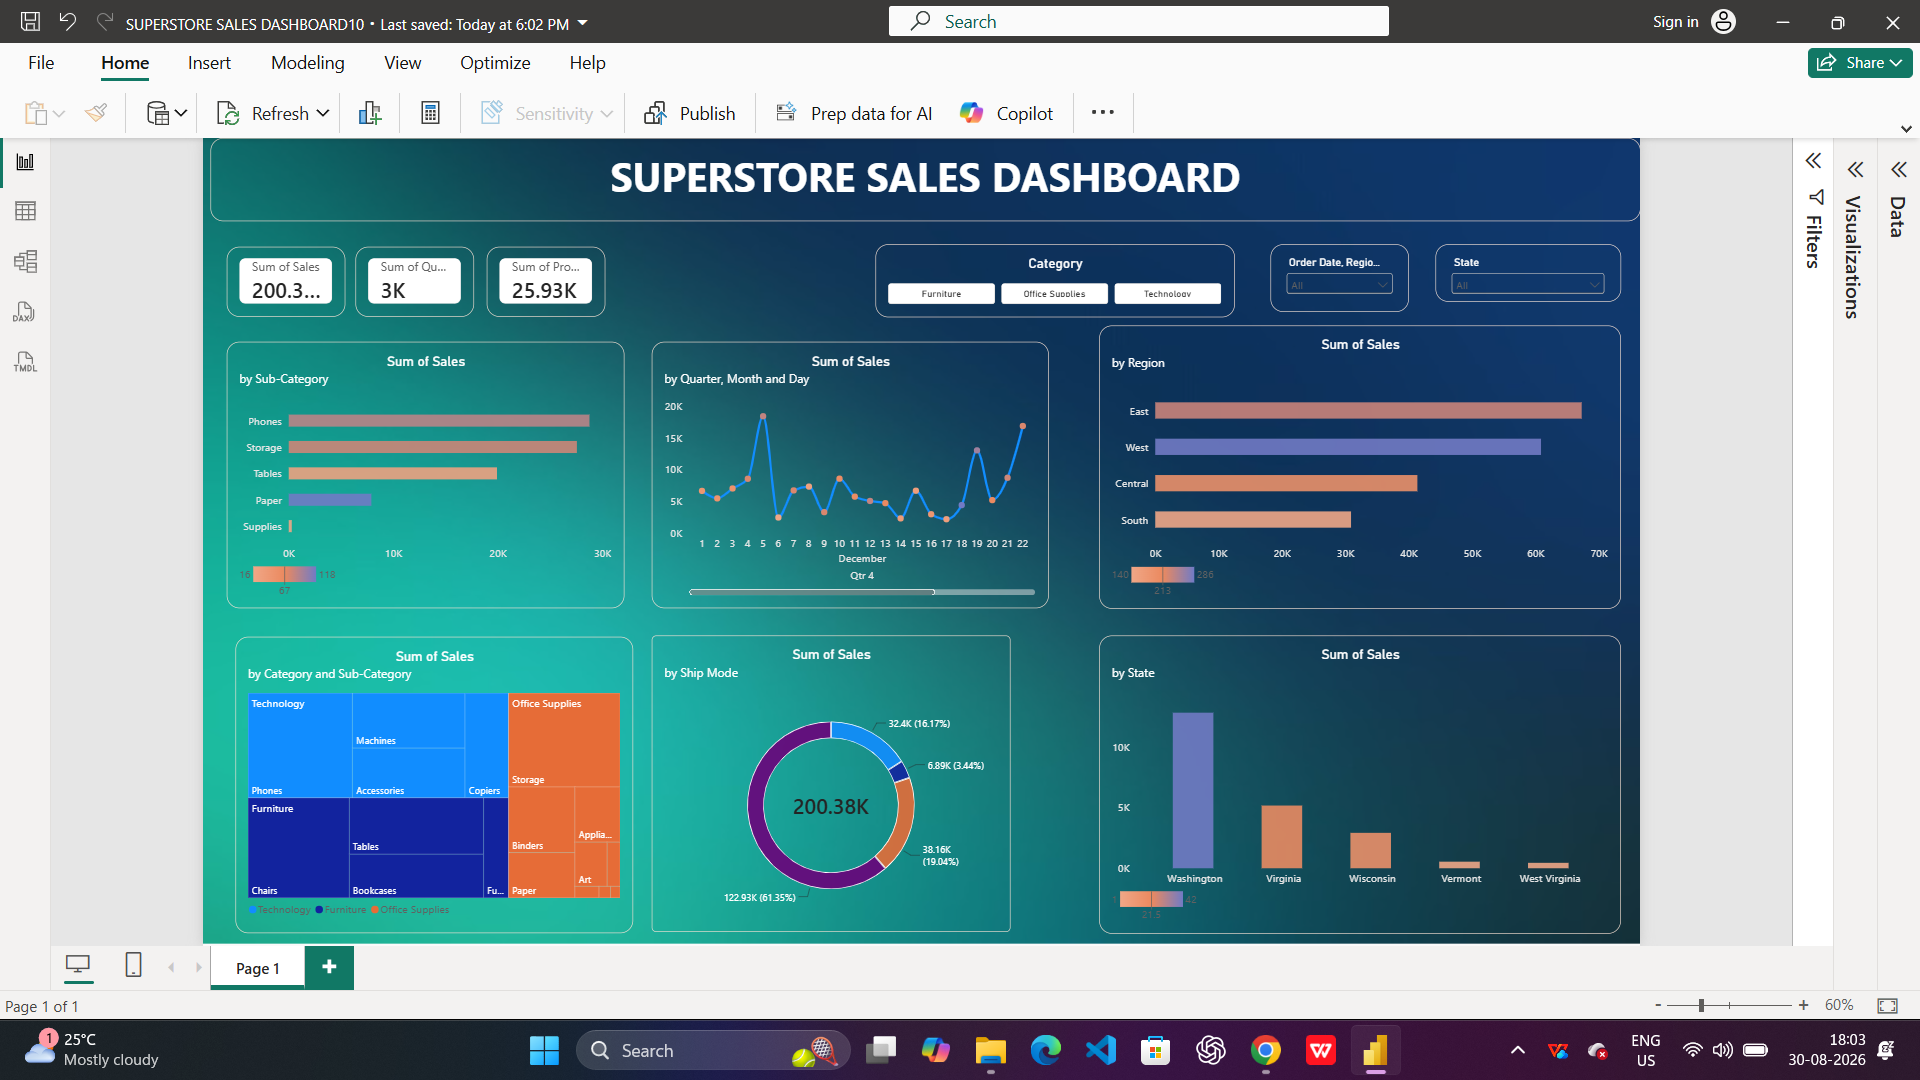

This screenshot's page, from the dashboard's own definition file:
{"tool":"powerbi","page":{"name":"Page 1","canvas":[1920,1080],"ordinal":0},"visuals":[{"type":"textbox","box":[10.3,0,1910.1,111.1],"z":0},{"type":"cardVisual","fields":{"Data":["Sum(SampleSuperstore.Sales)"]},"box":[31.2,135.4,158.3,93.7],"z":1000},{"type":"cardVisual","fields":{"Data":["Sum(SampleSuperstore.Quantity)"]},"box":[231.2,135.4,158.3,93.7],"z":2000},{"type":"cardVisual","fields":{"Data":["Sum(SampleSuperstore.Profit)"]},"box":[441.6,135.4,158.3,93.7],"z":3000},{"type":"clusteredBarChart","fields":{"Category":["SampleSuperstore.Region"],"Y":["Sum(SampleSuperstore.Sales)"]},"box":[1197.7,249.9,696.7,378.2],"z":4000},{"type":"columnChart","fields":{"Category":["SampleSuperstore.State"],"Y":["Sum(SampleSuperstore.Sales)"]},"box":[1198,664.1,696.7,398.1],"z":5000},{"type":"donutChart","fields":{"Category":["SampleSuperstore.Category"],"Y":["Sum(SampleSuperstore.Sales)"]},"box":[599.9,664.4,479.1,395.7],"z":6000},{"type":"donutChart","fields":{"Category":["SampleSuperstore.Ship Mode"],"Series":["SampleSuperstore.Country"],"Y":["Sum(SampleSuperstore.Sales)"]},"box":[599.9,272.9,479.1,356.2],"z":7000},{"type":"lineChart","fields":{"Category":["SampleSuperstore.Sub-Category"],"Y":["Sum(SampleSuperstore.Sales)"]},"box":[31.2,272.9,531.1,356.2],"z":8000},{"type":"treemap","fields":{"Details":["SampleSuperstore.Sub-Category"],"Group":["SampleSuperstore.Category"],"Values":["Sum(SampleSuperstore.Sales)"]},"box":[43.7,666.5,531,396],"z":9000},{"type":"advancedSlicerVisual","fields":{"Values":["SampleSuperstore.Category"]},"box":[872.7,110.4,649.9,97.9],"z":10000},{"type":"textSlicer","fields":{"Values":["SampleSuperstore.State"]},"box":[1545.5,135.4,374.9,93.7],"z":10001}]}

Visuals, with their boxes on the page's 1920x1080 design canvas (x1, y1, x2, y2). These are canvas units, not pixel positions in the 1920x1080 screenshot, which may show the page scaled, cropped or inside an application window:
textbox: <region>10, 0, 1920, 111</region>
cardVisual - Sum(SampleSuperstore.Sales): <region>31, 135, 190, 229</region>
cardVisual - Sum(SampleSuperstore.Quantity): <region>231, 135, 390, 229</region>
cardVisual - Sum(SampleSuperstore.Profit): <region>442, 135, 600, 229</region>
clusteredBarChart - SampleSuperstore.Region x Sum(SampleSuperstore.Sales): <region>1198, 250, 1894, 628</region>
columnChart - SampleSuperstore.State x Sum(SampleSuperstore.Sales): <region>1198, 664, 1895, 1062</region>
donutChart - SampleSuperstore.Category x Sum(SampleSuperstore.Sales): <region>600, 664, 1079, 1060</region>
donutChart - SampleSuperstore.Ship Mode x SampleSuperstore.Country: <region>600, 273, 1079, 629</region>
lineChart - SampleSuperstore.Sub-Category x Sum(SampleSuperstore.Sales): <region>31, 273, 562, 629</region>
treemap - SampleSuperstore.Sub-Category x SampleSuperstore.Category: <region>44, 666, 575, 1062</region>
advancedSlicerVisual - SampleSuperstore.Category: <region>873, 110, 1523, 208</region>
textSlicer - SampleSuperstore.State: <region>1546, 135, 1920, 229</region>
